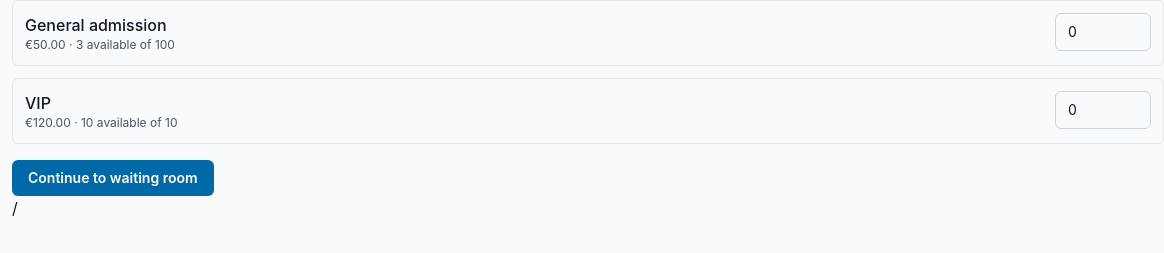
it: ticket selection validation › requires at least one ticket type with a quantity
Click the button "Continue to waiting room": (113, 178) [12, 160, 214, 196]
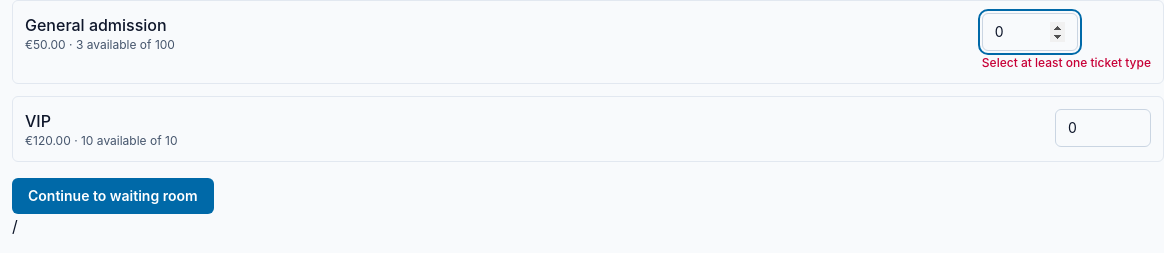
Expected: the text with test id "location" reads "/", [12, 216, 18, 236]
Now the text "Select at least one ticket type" is shown, box [982, 55, 1151, 71]
